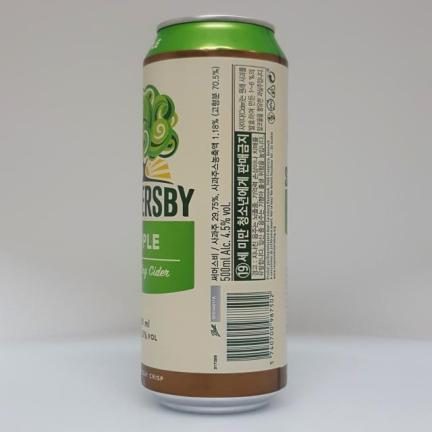can: (142, 17, 288, 412)
